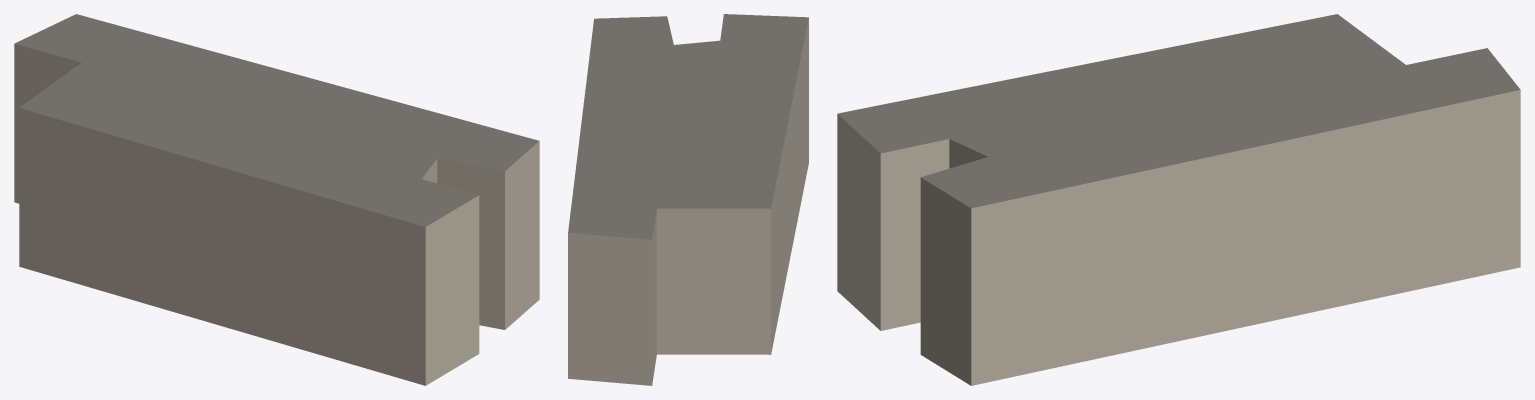
The picture shows the model from 3 angles, left to right: view 1: azimuth 30°, elevation 25°; view 2: azimuth 150°, elevation 25°; view 3: azimuth 270°, elevation 25°; orthographic projection. The views are drawn at different scales.
Visible parts, largest first — view 1: HP-w1512481848; view 2: HP-w1512481848; view 3: HP-w1512481848.
Boxes of the visible parts, <box> form: HP-w1512481848: <box>14,14,539,385</box>; HP-w1512481848: <box>568,14,808,385</box>; HP-w1512481848: <box>837,14,1520,385</box>.
Bounding box in the file's own units: 42.27 × 18 × 62.79.
